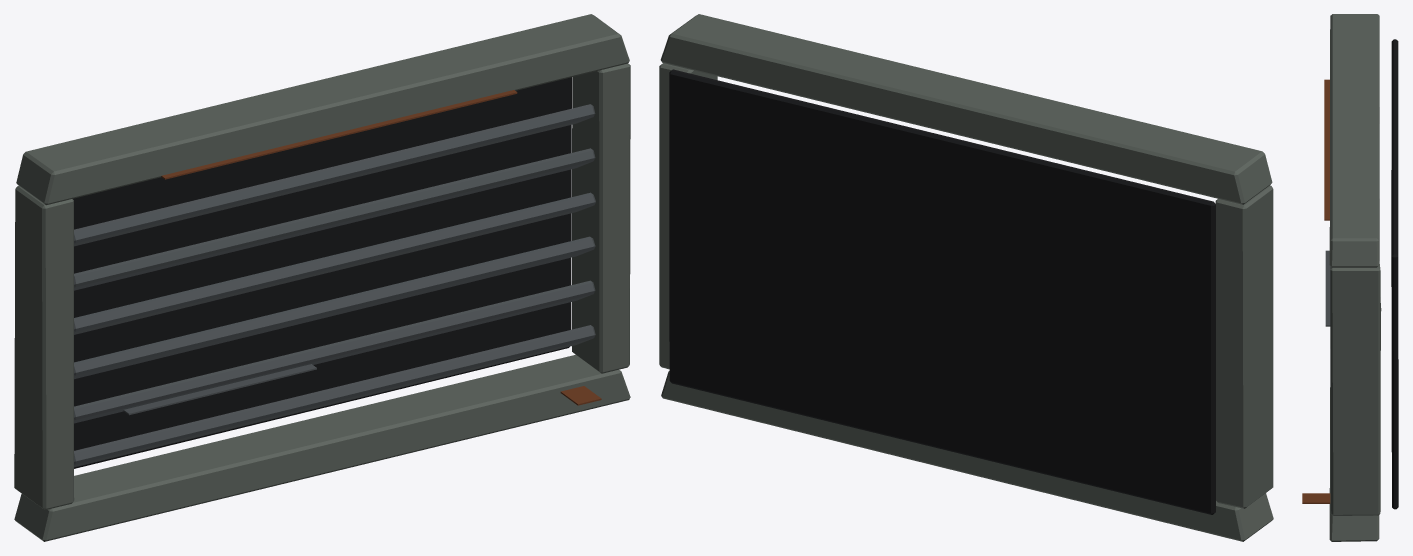
File: vent_grille.glb
3 renders of one model, left to right at view 1: azimuth 30°, elevation 25°; view 2: azimuth 150°, elevation 25°; view 3: azimuth 270°, elevation 25°, orthographic. The views are drawn at different scales.
Visible parts, largest first — view 1: vent_grille; view 2: vent_grille; view 3: vent_grille.
Boxes of the visible parts, box(x1,y1,x2,y2) form: vent_grille: box(14, 14, 630, 541); vent_grille: box(659, 14, 1273, 541); vent_grille: box(1302, 14, 1398, 541).
Size of the model in its own units: 0.5011 by 0.3007 by 0.0872.
